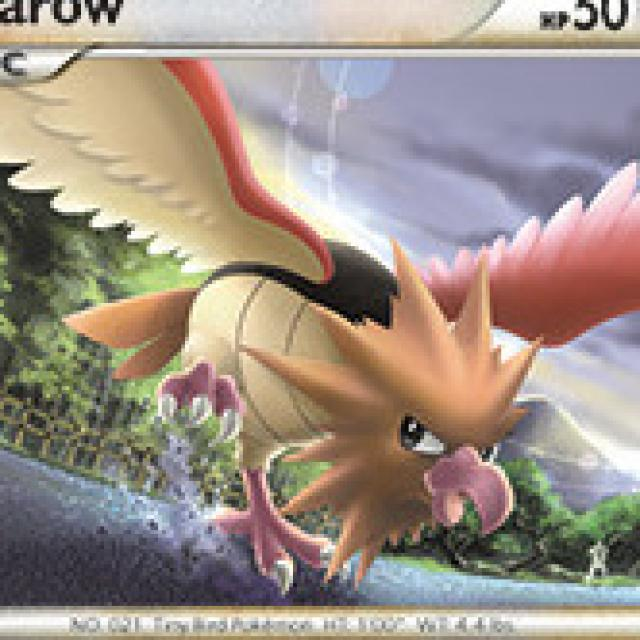Spearow: (57, 145, 593, 573)
